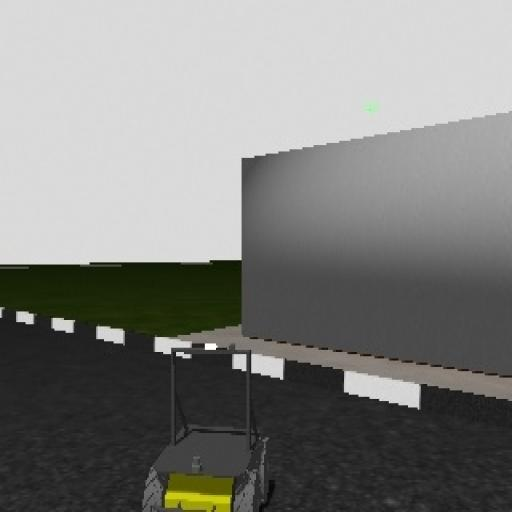huskya200: (146, 333, 276, 512)
